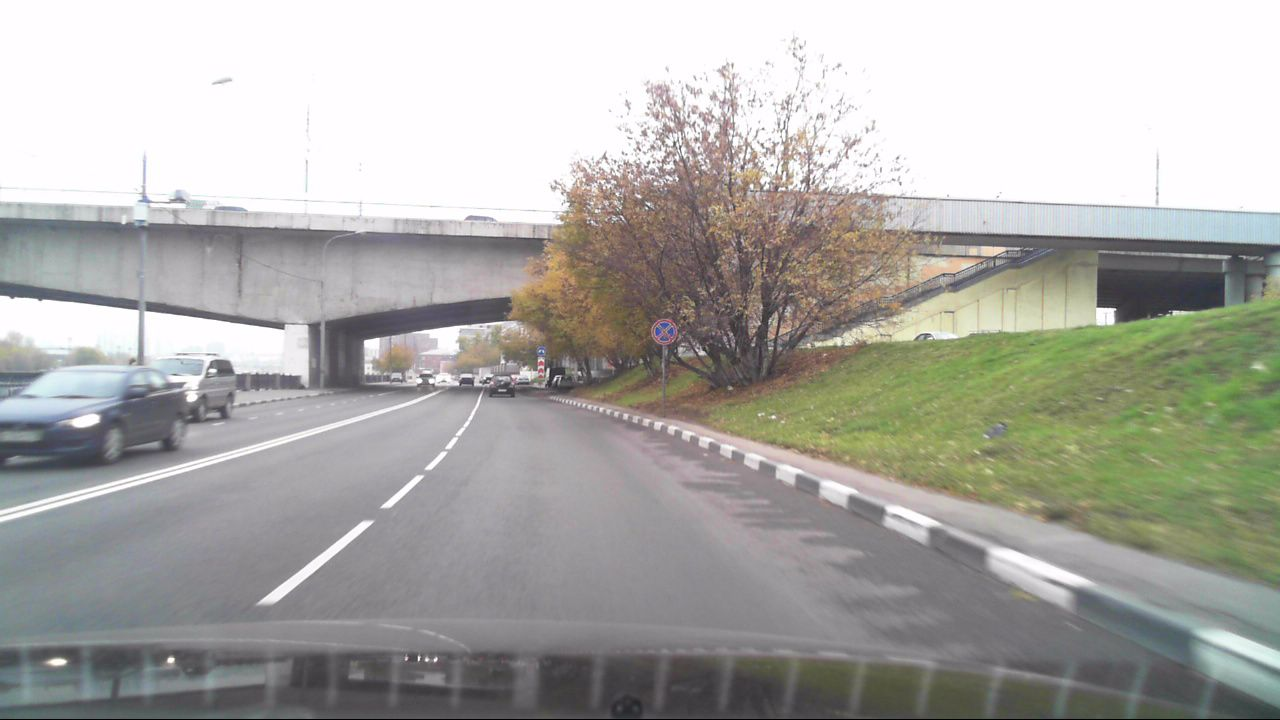No Parking: (650, 316, 678, 345)
